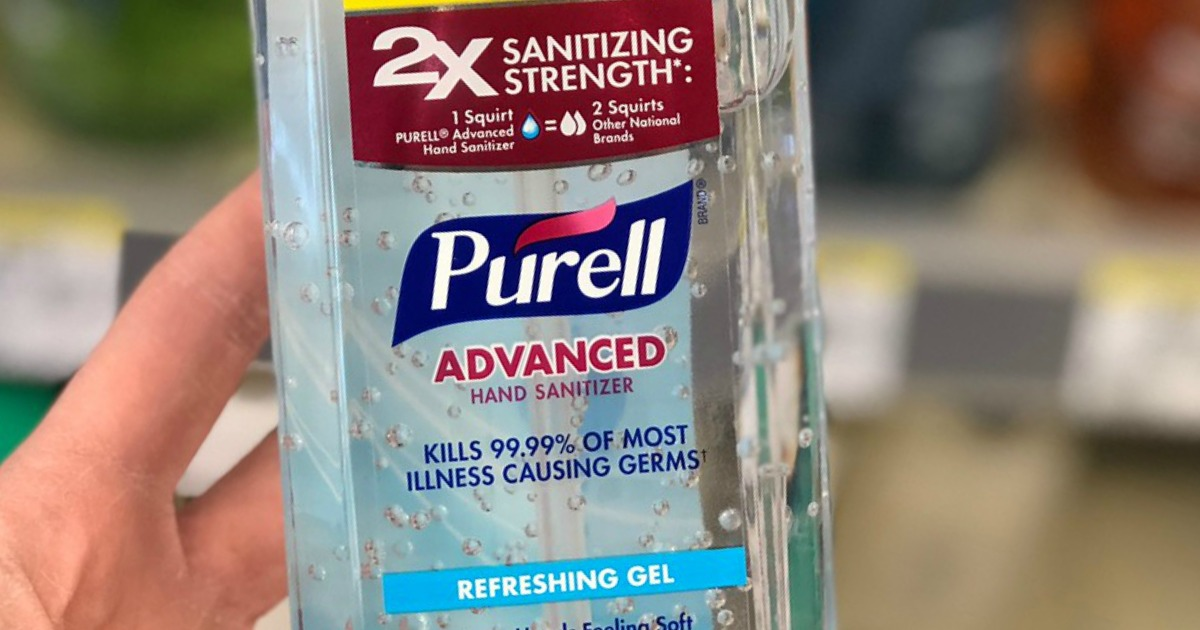Sanitizer: (236, 5, 845, 630)
